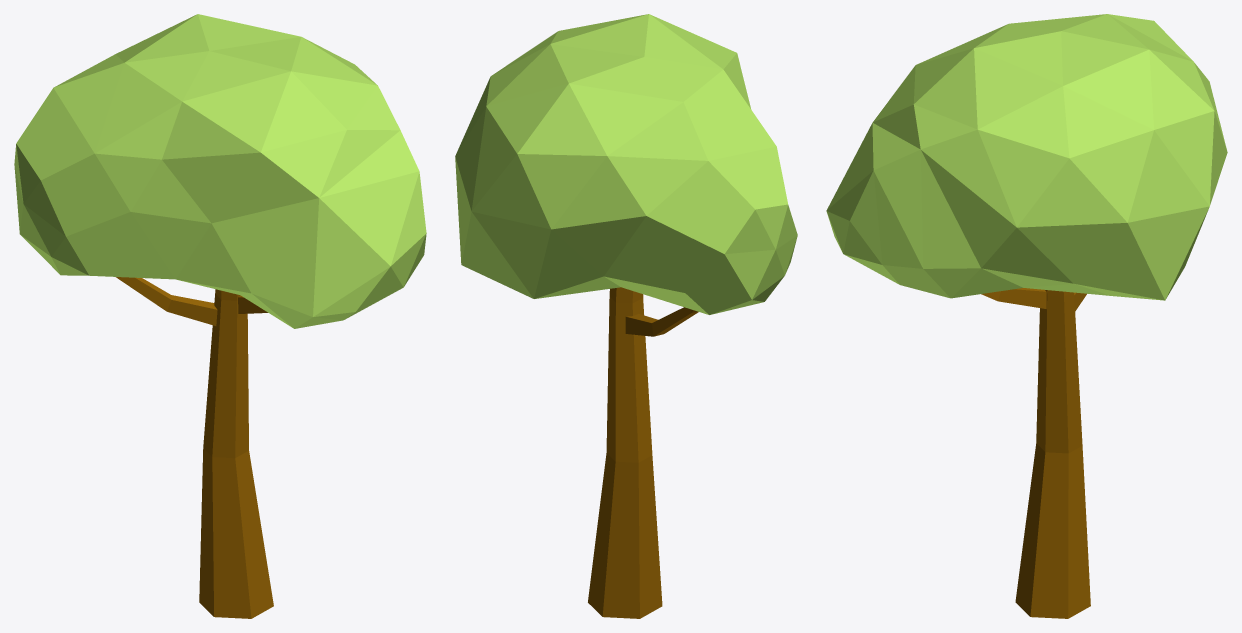
The model's file is tree_02.glb.
The picture shows the model from 3 angles, left to right: view 1: azimuth 30°, elevation 25°; view 2: azimuth 150°, elevation 25°; view 3: azimuth 270°, elevation 25°; orthographic projection.
Parts seen in each view (by area): view 1: Tree2; view 2: Tree2; view 3: Tree2.
Part boxes in pixels (x1,y1,x2,y2): Tree2: (14, 14, 426, 618); Tree2: (455, 14, 797, 618); Tree2: (826, 14, 1227, 618).
Size of the model in its own units: 12.32 by 20.01 by 12.91.
